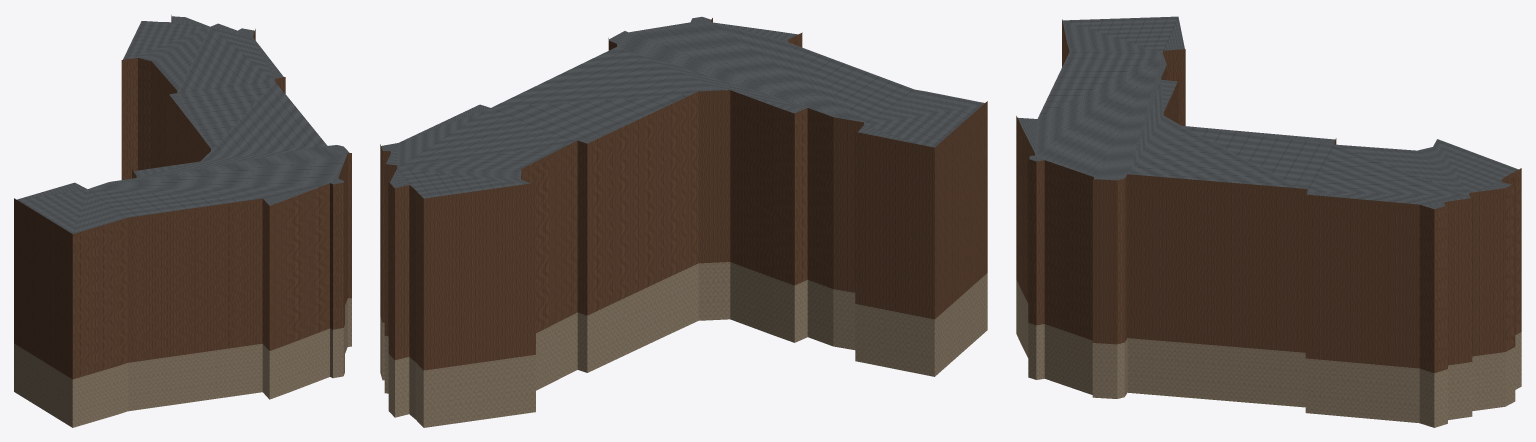
Rendered from bld_c8_37_515.gltf.
3 views of the same model, side by side, from view 1: azimuth 30°, elevation 25°; view 2: azimuth 150°, elevation 25°; view 3: azimuth 270°, elevation 25° (orthographic). The views are drawn at different scales.
Visible parts, largest first — view 1: bld_c8_37_515; view 2: bld_c8_37_515; view 3: bld_c8_37_515.
Boxes of the visible parts, left/top/right/bottom form: bld_c8_37_515: left=14, top=15, right=351, bottom=427; bld_c8_37_515: left=380, top=16, right=987, bottom=427; bld_c8_37_515: left=1016, top=16, right=1521, bottom=427.
Size of the model in its own units: 39.07 by 20.38 by 42.71.
4 materials, 4 textured.
